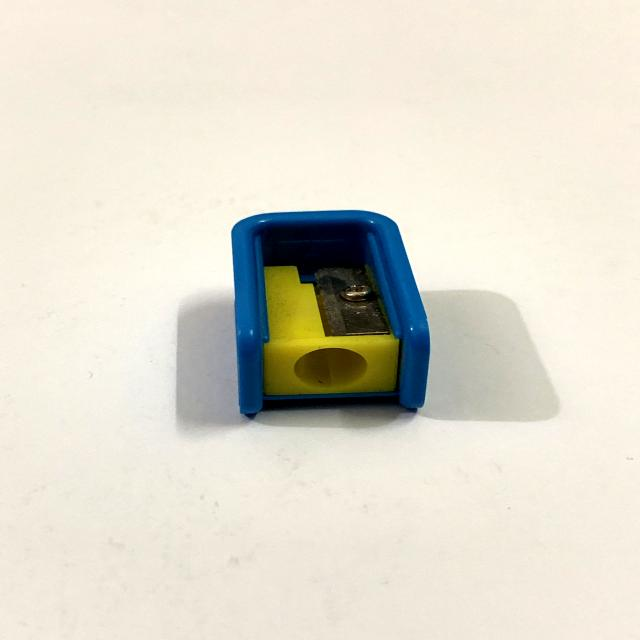Sharpner: (165, 175, 501, 435)
